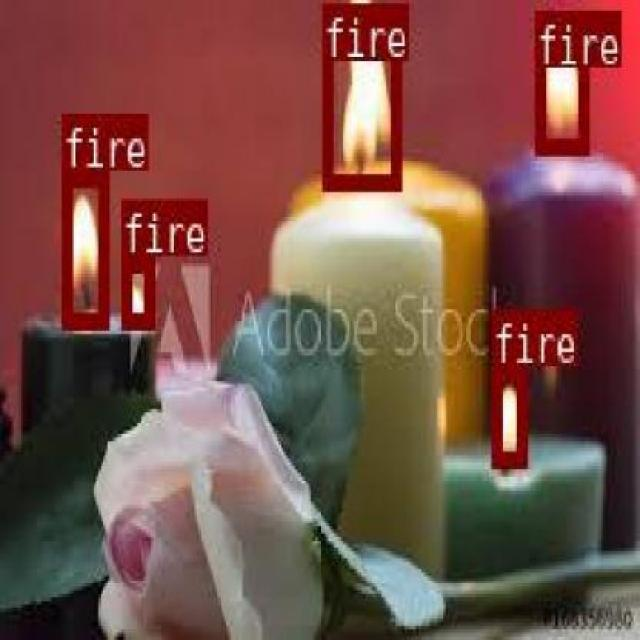fire: (320, 2, 400, 186), (533, 8, 587, 150), (61, 169, 105, 326), (489, 366, 526, 466), (120, 254, 152, 328)
